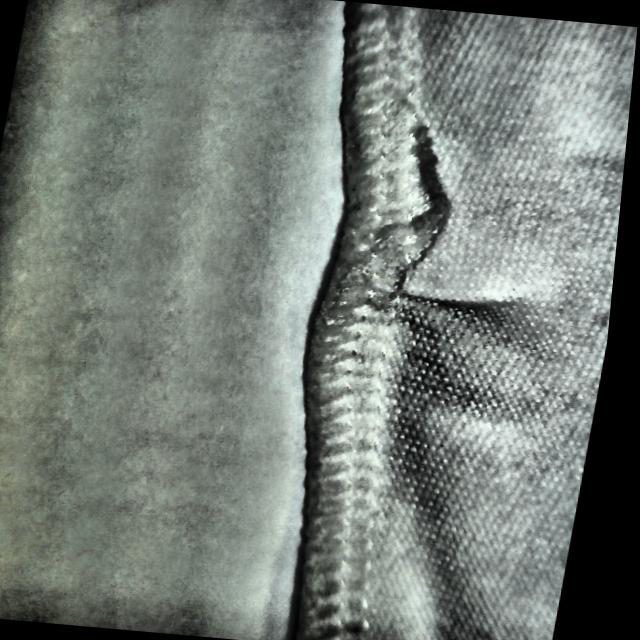seam: (314, 128, 531, 344)
